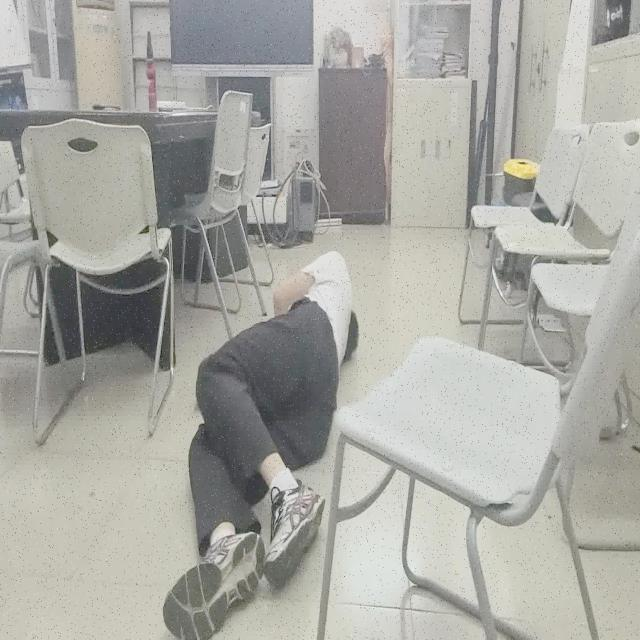fall: (162, 246, 362, 640)
